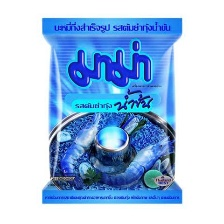snack: (27, 10, 191, 210)
